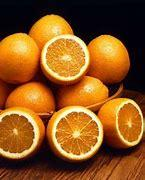orange: (48, 106, 109, 161), (0, 105, 58, 161), (0, 27, 50, 79), (84, 34, 136, 82), (93, 92, 145, 140), (38, 31, 85, 78), (21, 7, 74, 43), (55, 70, 105, 107), (9, 83, 55, 114)
